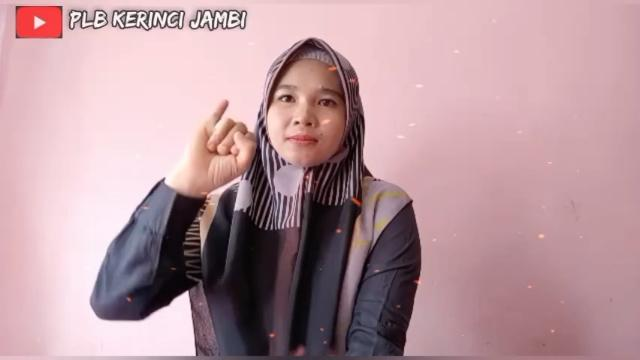I: (184, 99, 258, 191)
